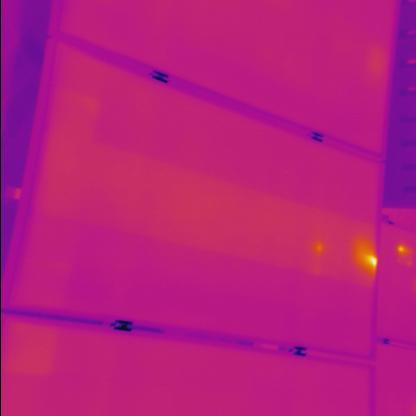hotspot: (392, 241, 414, 267), (360, 252, 380, 272)
